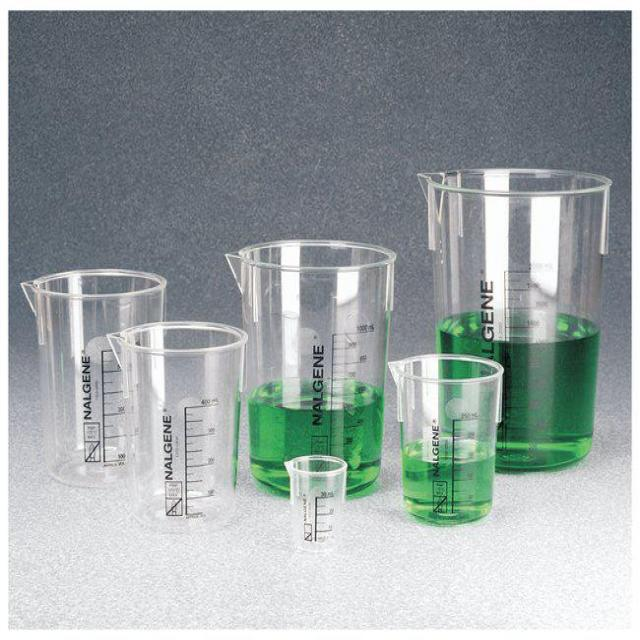non-organic waste: (105, 320, 252, 532), (283, 452, 350, 560)
